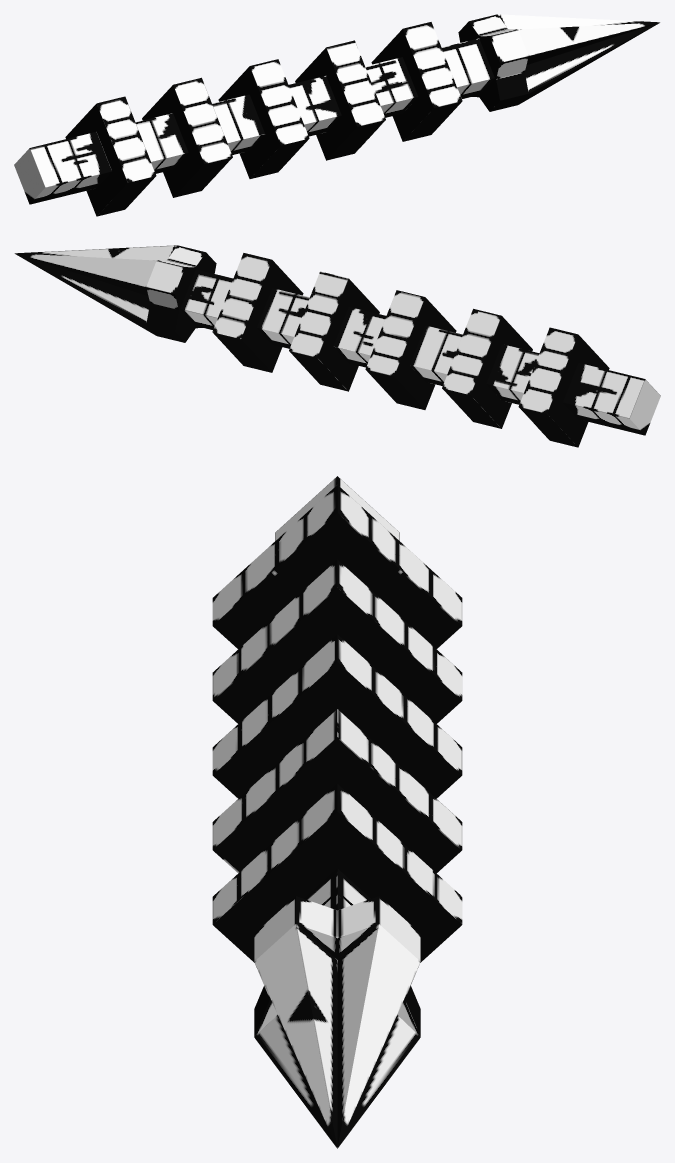
File: BoneSpear.fbx
3 renders of one model, top to bottom at view 1: azimuth 30°, elevation 25°; view 2: azimuth 150°, elevation 25°; view 3: azimuth 270°, elevation 25°, orthographic. The views are drawn at different scales.
Visible parts, largest first — view 1: Cube; view 2: Cube; view 3: Cube.
Boxes of the visible parts, left/top/right/bottom form: Cube: left=14, top=14, right=660, bottom=216; Cube: left=14, top=245, right=660, bottom=447; Cube: left=212, top=476, right=462, bottom=1148.
Size of the model in its own units: 113 by 113 by 660.
Materials: 1 (1 with a texture image).
